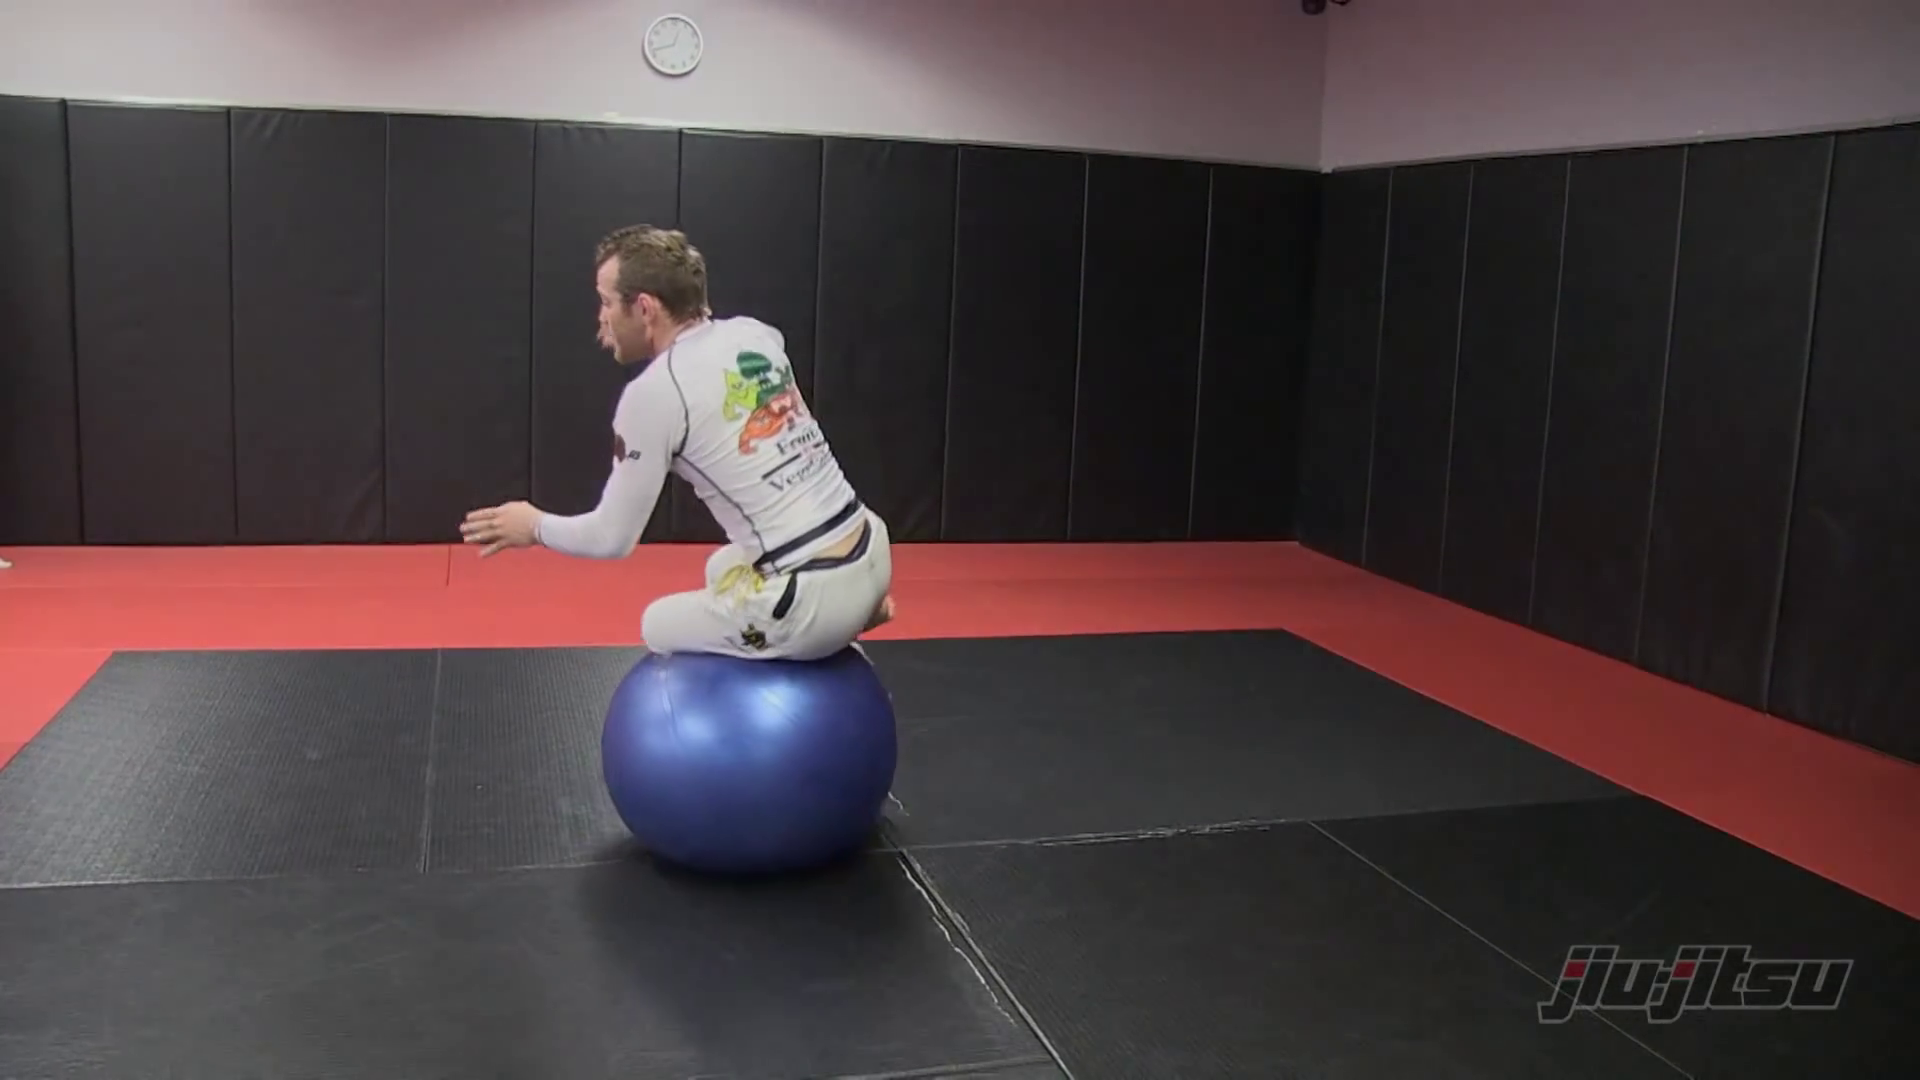yogaball: (589, 641, 916, 887)
